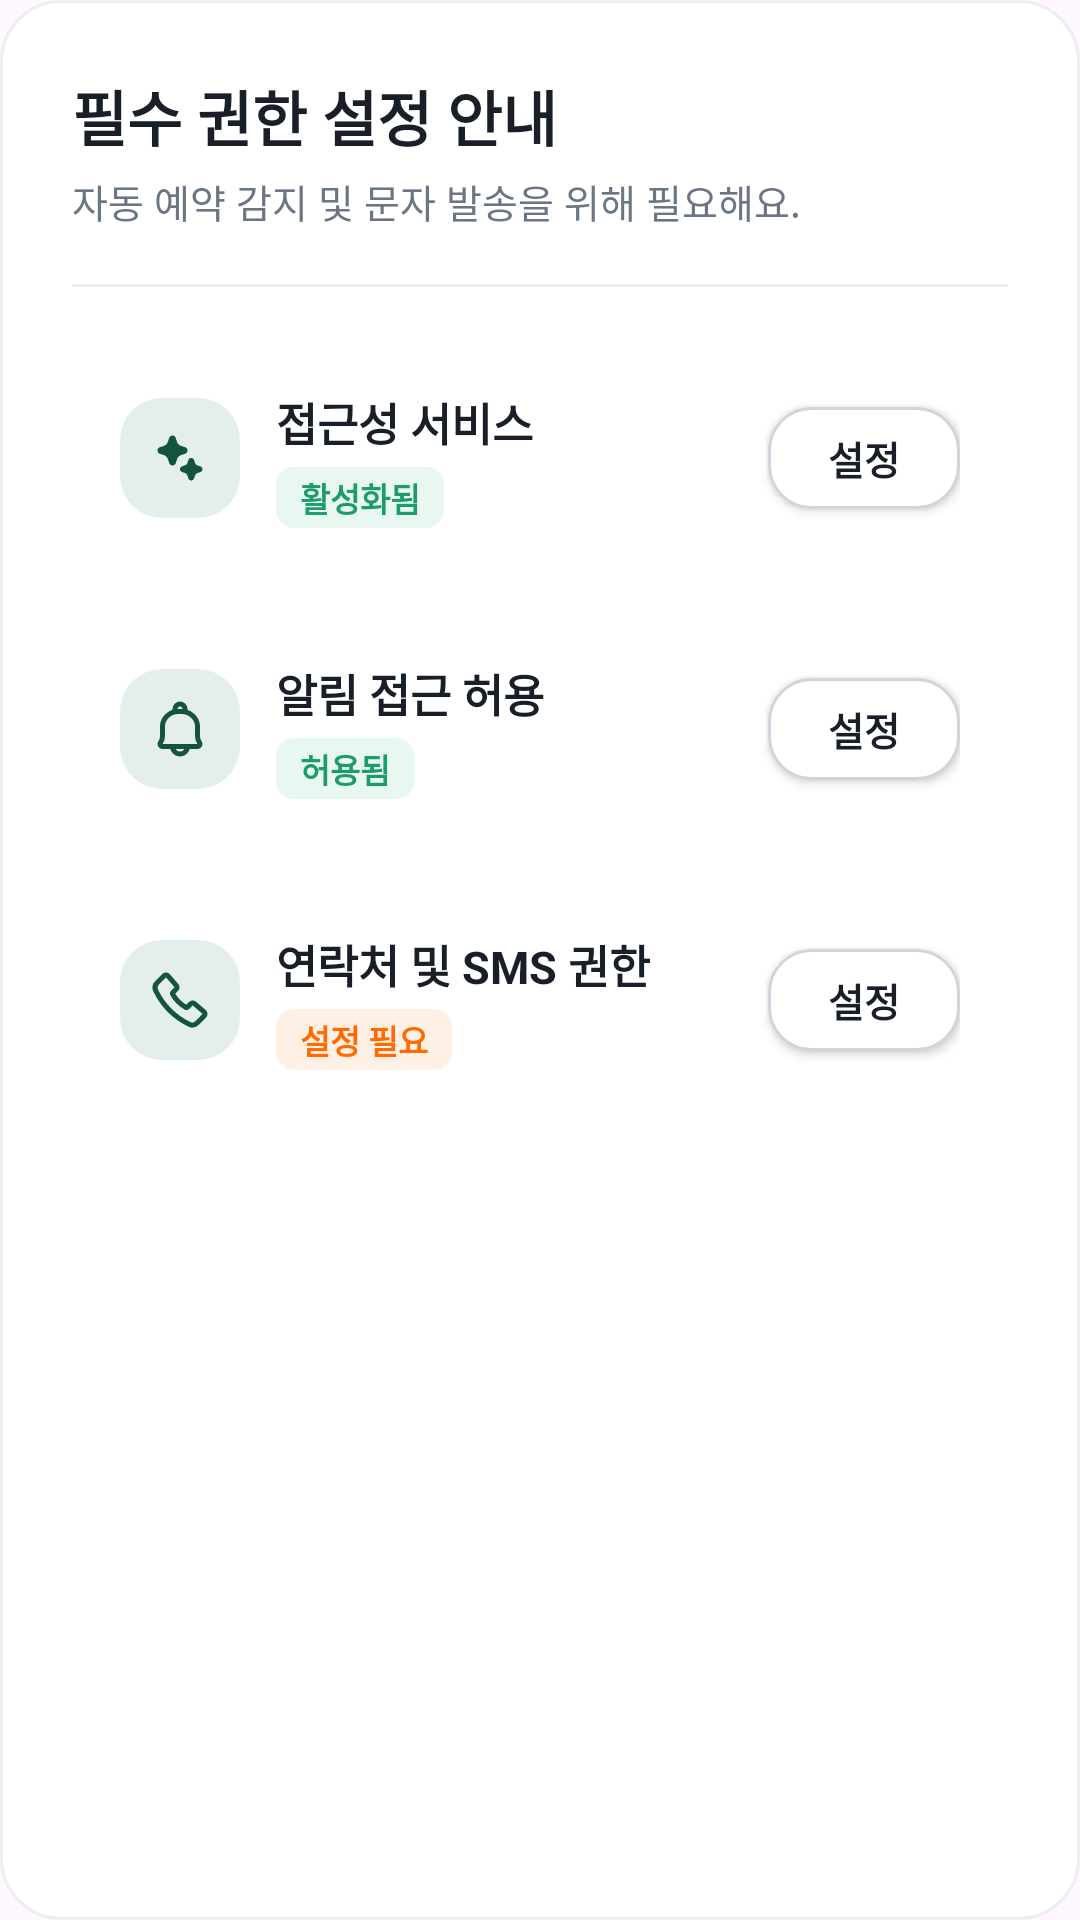

Where icons sit on this 1080x1920 app screen, as box=[x1, y1, x2, y2]:
bell: box=[157, 701, 203, 757]
phone: box=[152, 972, 208, 1028]
sparkle: box=[157, 435, 203, 481]
